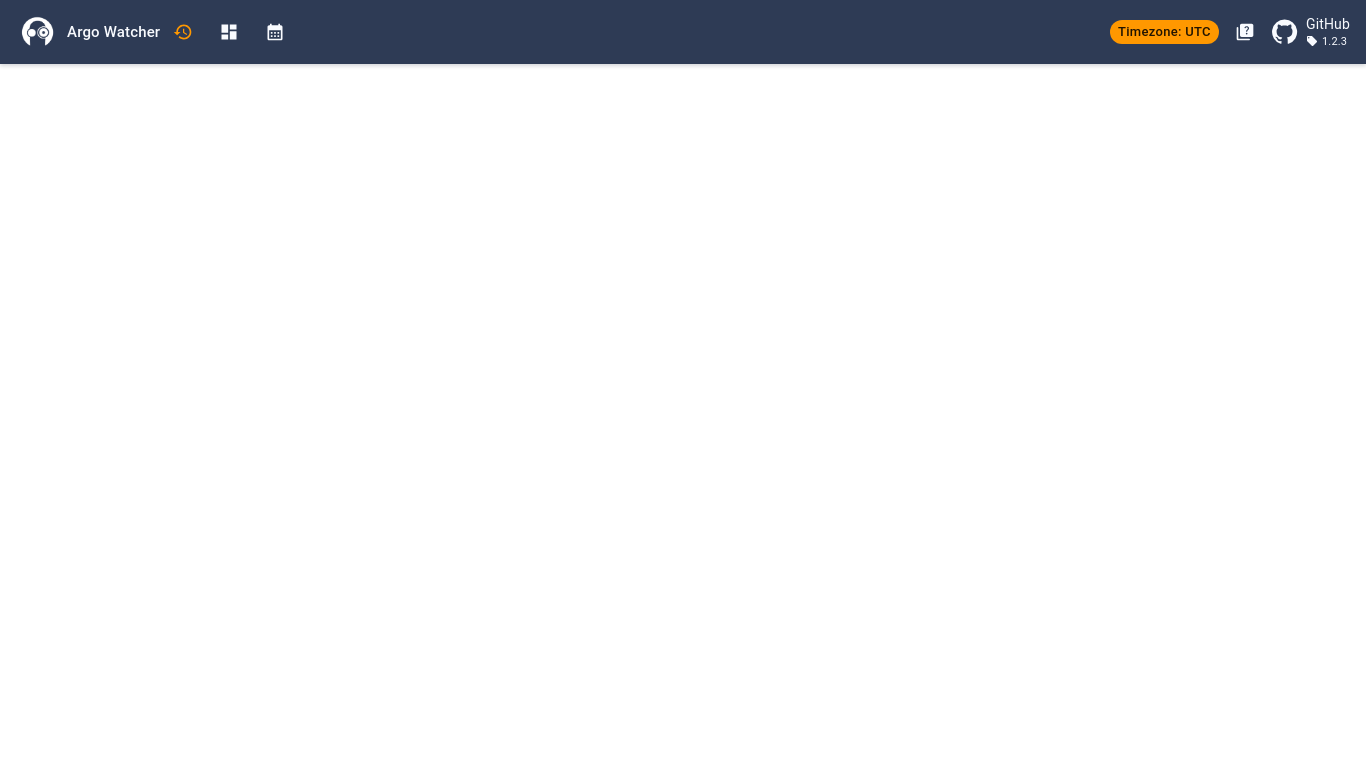
Test: AppTopBar › displays version and opens config drawer
expect the text "1.2.3" is shown: met, box [1322, 36, 1347, 46]
Click the button named "open configuration drawer".
click(38, 32)  # box [16, 12, 59, 52]
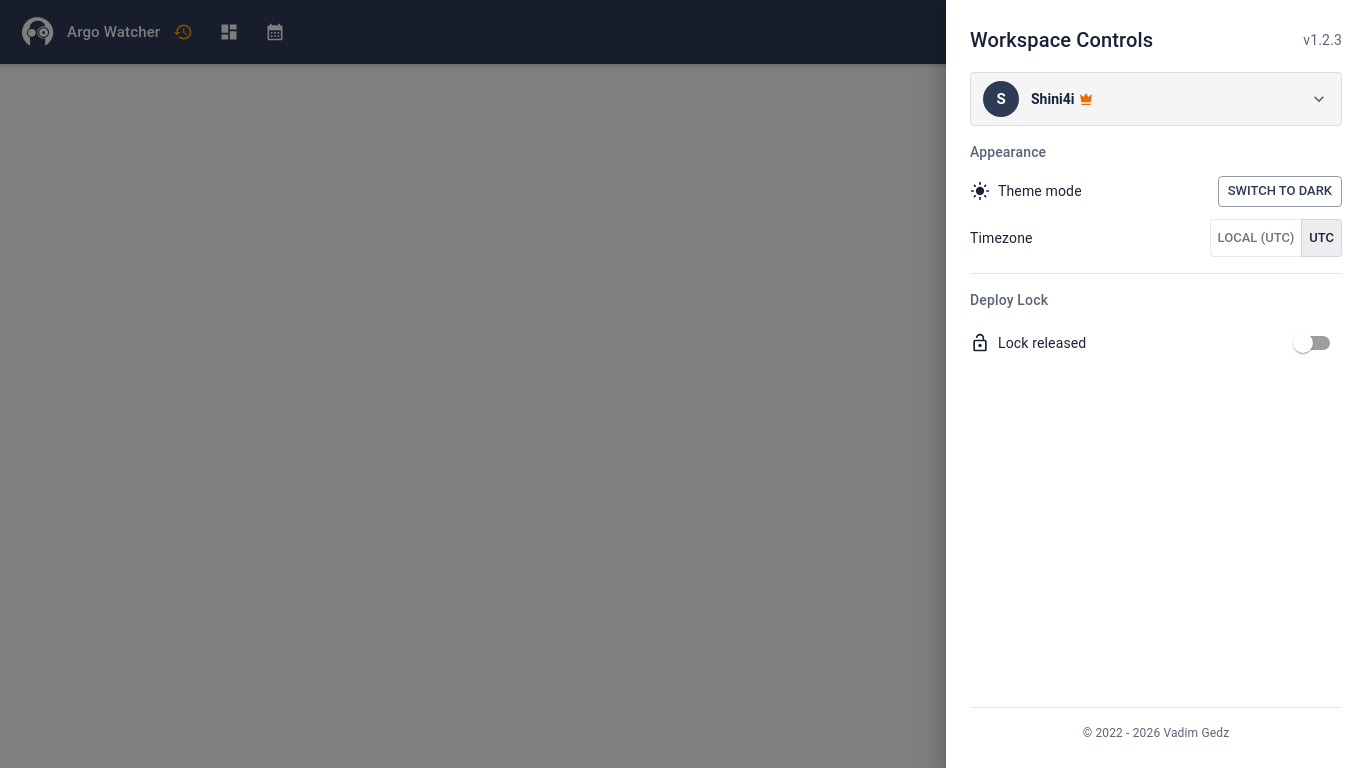
expect the element named "Workspace configuration drawer" is shown: met
